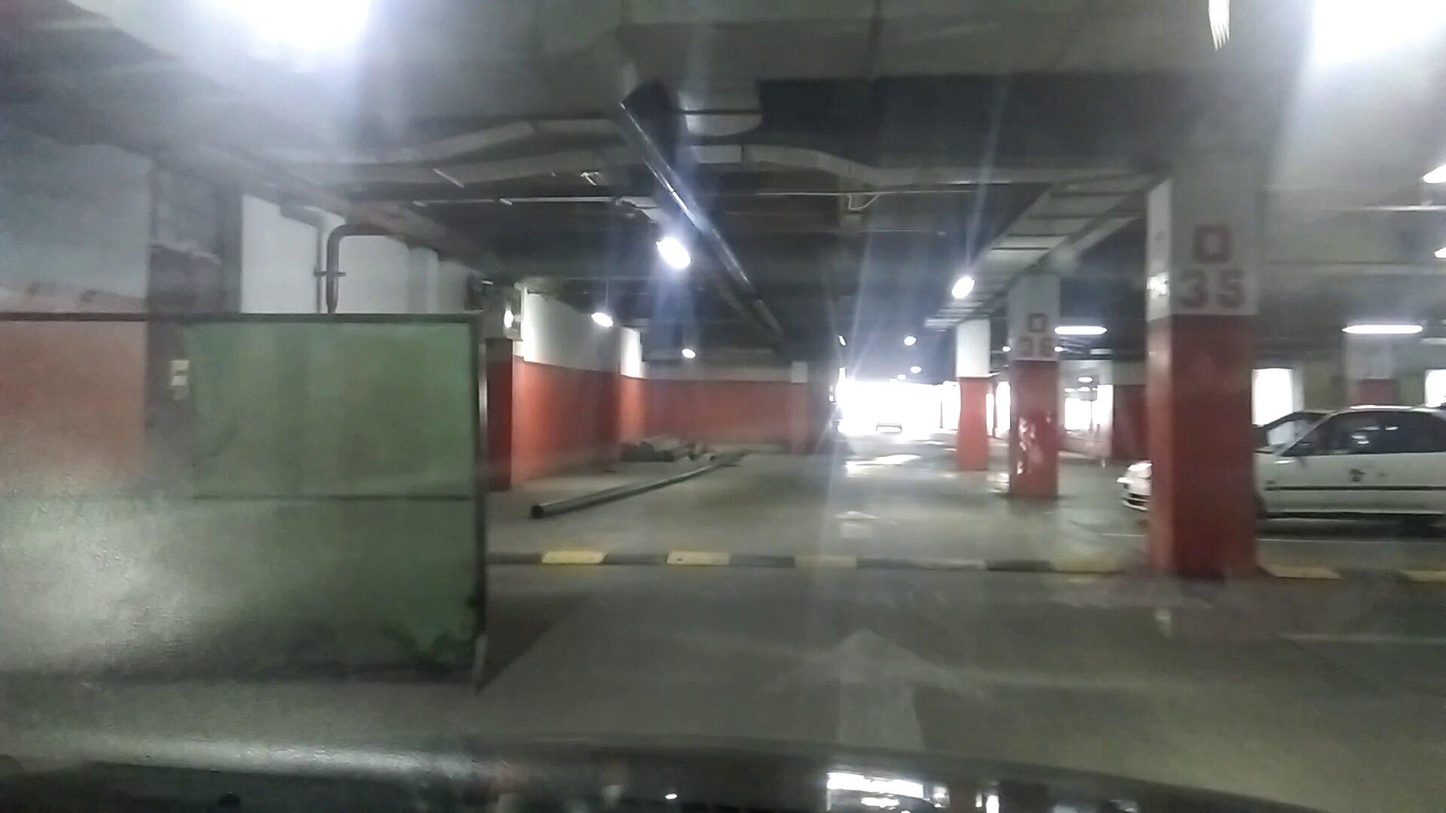Bump: (491, 548, 1139, 580), (1269, 559, 1446, 595)
